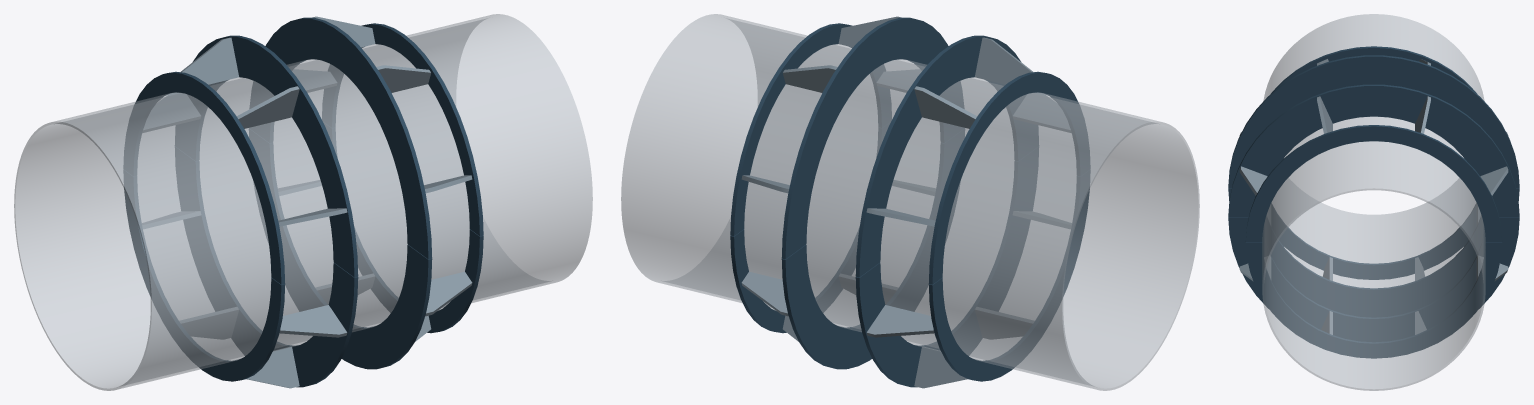
File: TS-667.00.00-06-opora-dn1020-D1330.glb
3 renders of one model, left to right at view 1: azimuth 30°, elevation 25°; view 2: azimuth 150°, elevation 25°; view 3: azimuth 270°, elevation 25°, orthographic. The views are drawn at different scales.
Parts seen in each view (by area): view 1: truba, polukoltso_1, polukoltso_19, polukoltso_7, polukoltso_13, polukoltso_usil_12, polukoltso_usil_24, polukoltso_usil_6, polukoltso_usil_18, rebro_9, rebro_20, rebro_8 (+8 smaller); view 2: truba, polukoltso_1, polukoltso_19, polukoltso_7, polukoltso_13, polukoltso_usil_12, polukoltso_usil_24, polukoltso_usil_6, polukoltso_usil_18, rebro_10, rebro_23, rebro_11 (+8 smaller); view 3: truba, polukoltso_1, polukoltso_7, polukoltso_13, polukoltso_19, polukoltso_usil_6, polukoltso_usil_18, polukoltso_usil_24, polukoltso_usil_12, rebro_2, rebro_5, rebro_3 (+1 smaller).
Boxes of the visible parts, x1=… form: truba: x1=14, y1=14, x2=592, y2=390; polukoltso_1: x1=249, y1=17, x2=432, y2=259; polukoltso_19: x1=175, y1=147, x2=358, y2=387; polukoltso_7: x1=175, y1=35, x2=358, y2=277; polukoltso_13: x1=249, y1=129, x2=432, y2=369; polukoltso_usil_12: x1=123, y1=71, x2=285, y2=284; polukoltso_usil_24: x1=123, y1=170, x2=285, y2=381; polukoltso_usil_6: x1=322, y1=23, x2=483, y2=236; polukoltso_usil_18: x1=323, y1=122, x2=483, y2=333; rebro_9: x1=180, y1=37, x2=238, y2=84; rebro_20: x1=279, y1=305, x2=347, y2=337; rebro_8: x1=142, y1=92, x2=200, y2=132; truba: x1=621, y1=14, x2=1199, y2=390; polukoltso_1: x1=781, y1=17, x2=964, y2=259; polukoltso_19: x1=855, y1=147, x2=1038, y2=387; polukoltso_7: x1=855, y1=35, x2=1038, y2=277; polukoltso_13: x1=781, y1=129, x2=964, y2=369; polukoltso_usil_12: x1=928, y1=71, x2=1090, y2=284; polukoltso_usil_24: x1=928, y1=170, x2=1090, y2=381; polukoltso_usil_6: x1=730, y1=23, x2=891, y2=236; polukoltso_usil_18: x1=730, y1=122, x2=890, y2=333; rebro_10: x1=975, y1=37, x2=1033, y2=84; rebro_23: x1=866, y1=305, x2=934, y2=337; rebro_11: x1=1013, y1=92, x2=1071, y2=132; truba: x1=1262, y1=14, x2=1485, y2=390; polukoltso_1: x1=1228, y1=84, x2=1519, y2=217; polukoltso_7: x1=1228, y1=55, x2=1519, y2=188; polukoltso_13: x1=1228, y1=217, x2=1519, y2=342; polukoltso_19: x1=1228, y1=188, x2=1519, y2=317; polukoltso_usil_6: x1=1245, y1=125, x2=1502, y2=242; polukoltso_usil_18: x1=1246, y1=242, x2=1501, y2=358; polukoltso_usil_24: x1=1271, y1=203, x2=1476, y2=279; polukoltso_usil_12: x1=1271, y1=46, x2=1476, y2=93; rebro_2: x1=1480, y1=166, x2=1508, y2=195; rebro_5: x1=1239, y1=166, x2=1267, y2=195; rebro_3: x1=1415, y1=96, x2=1430, y2=133.
Bounding box in the file's own units: 1884 × 1327 × 1330.
